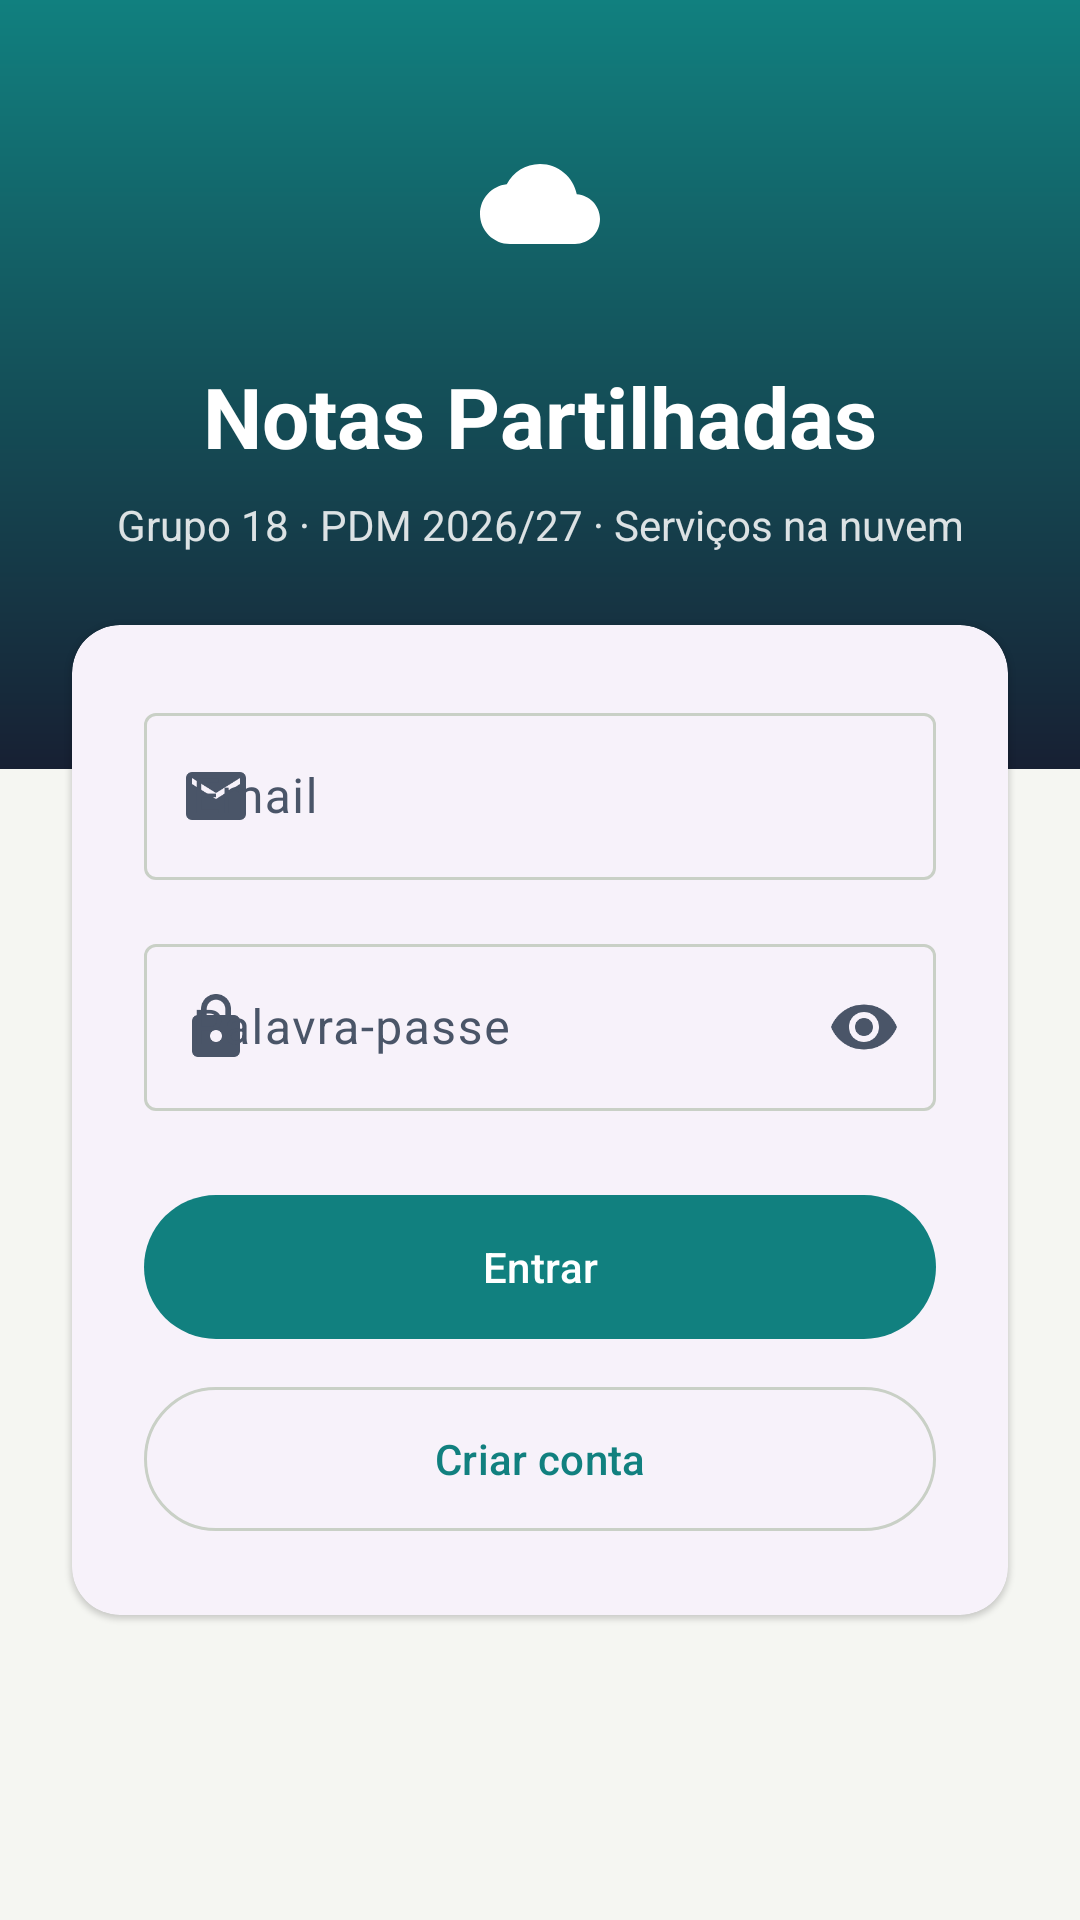

Icons on this 1080*1920 Android screen, each with the point to tap as (x=x, y=y):
cloud: (x=540, y=204)
